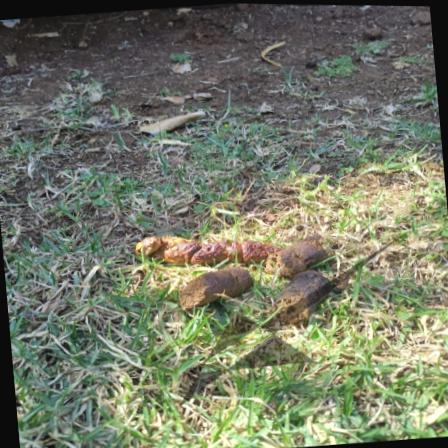dog-poop: (138, 214, 354, 342)
